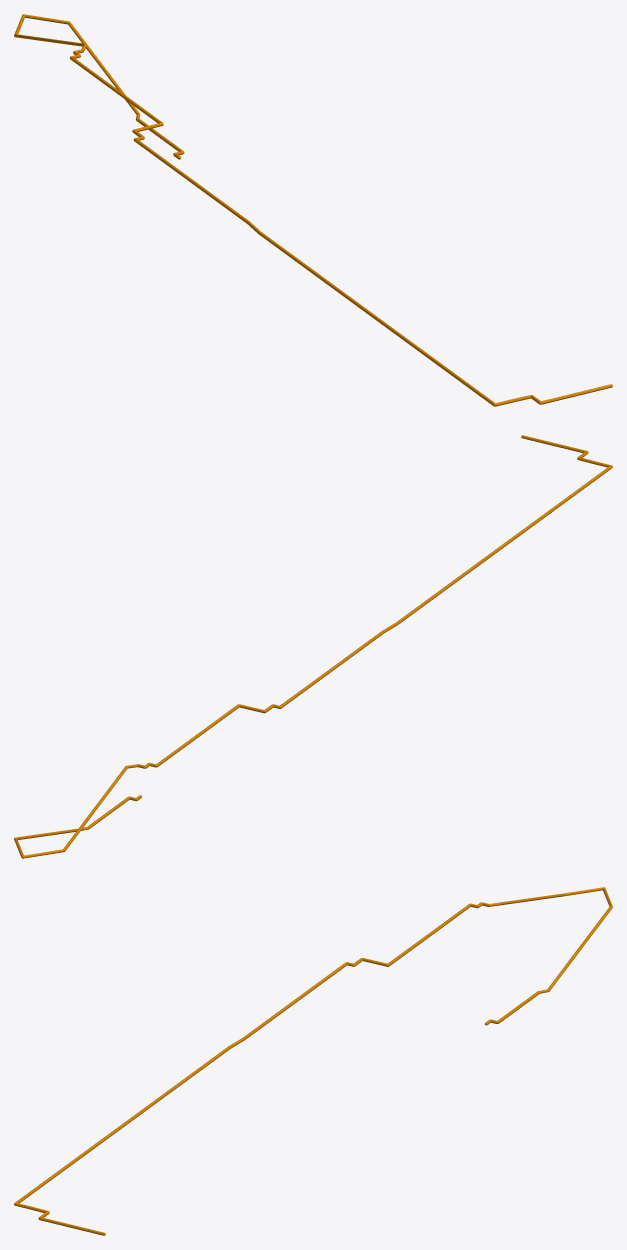
3 renders of one model, top to bottom at view 1: azimuth 30°, elevation 25°; view 2: azimuth 150°, elevation 25°; view 3: azimuth 330°, elevation 25°, orthographic. The views are drawn at different scales.
Size of the model in its own units: 749 by 520 by 6292.
